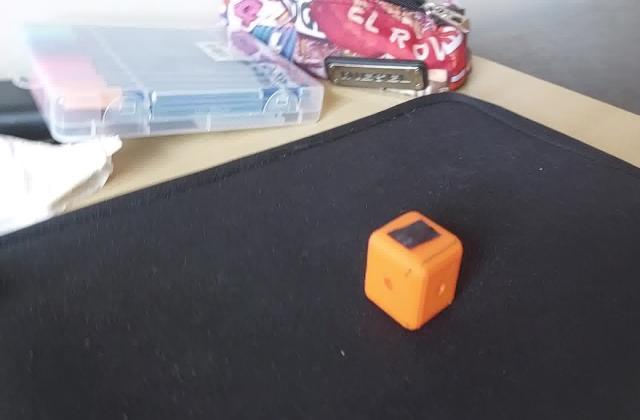black: (386, 220, 438, 252)
cube: (359, 209, 465, 336)
